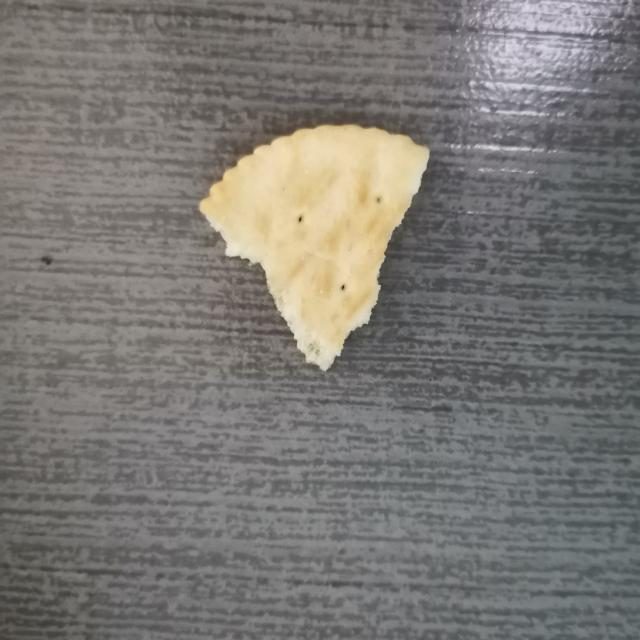Broken: (197, 122, 431, 372)
